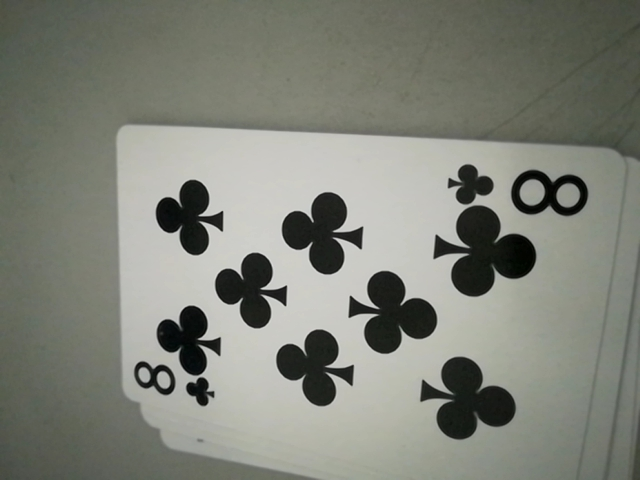mh 8: (447, 160, 590, 217), (128, 358, 215, 412)
